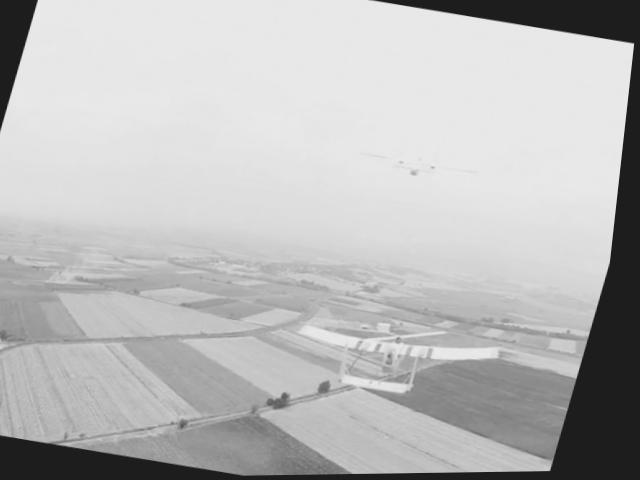hedef: (289, 294, 526, 421), (346, 130, 495, 199)
